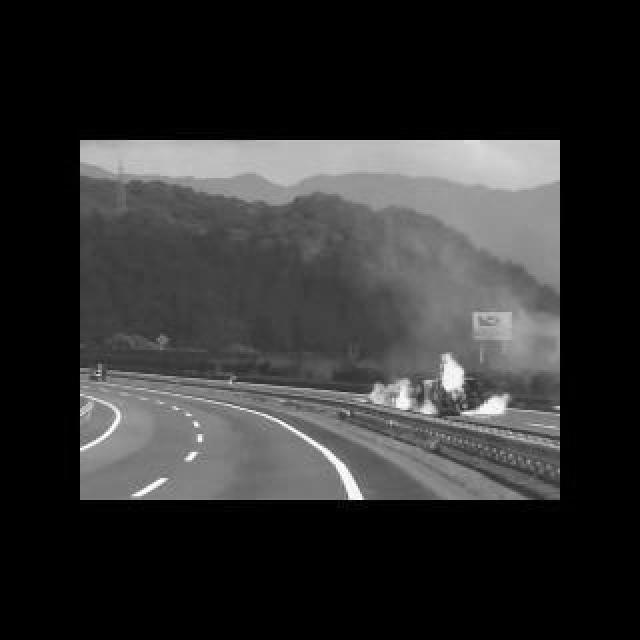Fire: (368, 380, 438, 414), (456, 392, 516, 418), (440, 350, 466, 394)
